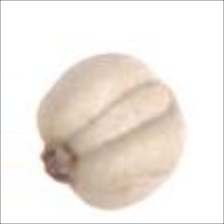L5: (67, 80, 179, 166), (39, 138, 81, 188)
L6: (33, 50, 189, 213)
